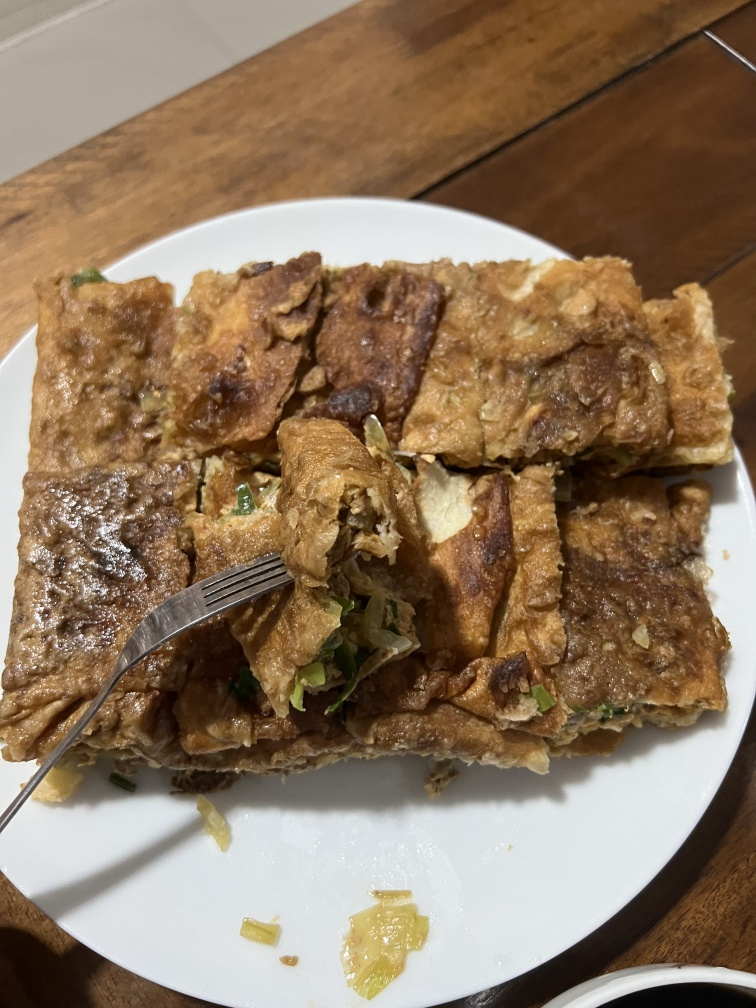martabak telor: (162, 354, 400, 721), (382, 449, 585, 806), (10, 462, 193, 756), (450, 218, 672, 457), (542, 456, 728, 732), (291, 206, 479, 474), (31, 253, 199, 475), (165, 221, 323, 446)
